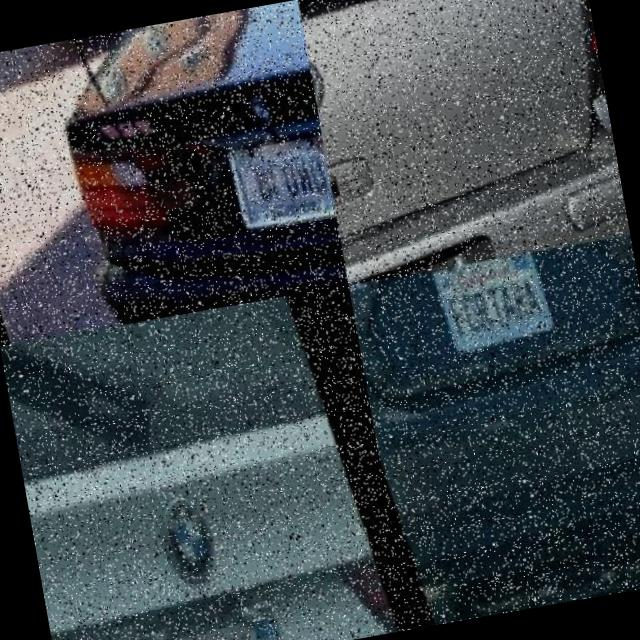LicensePlate: (116, 560, 314, 640), (216, 104, 336, 234), (430, 249, 562, 359), (59, 31, 120, 56)
